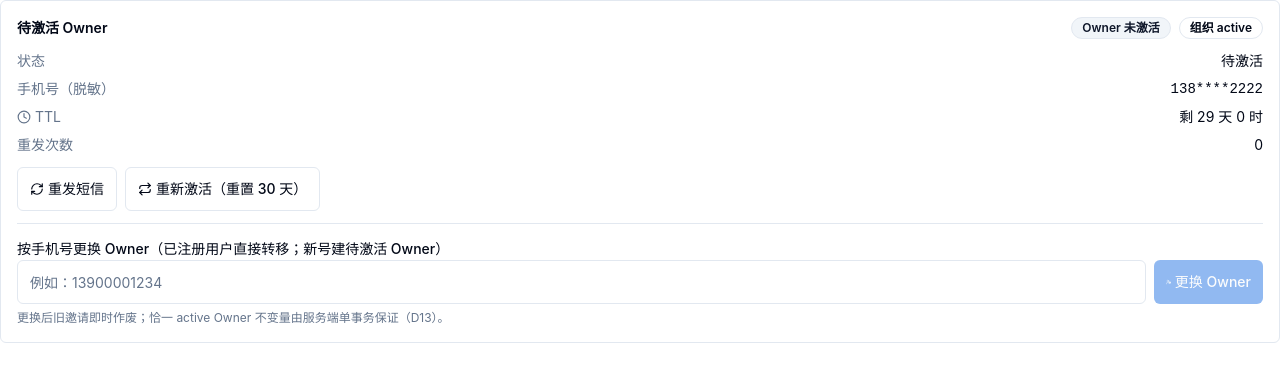
Test: PendingOwnerPanel — 重发 › POST /owner-activation/resend → 一次性轮换 token 展示 + 状态刷新
Click the button with test id "resend-btn" at (67, 189), box x1=17 y1=167 x2=117 y2=211
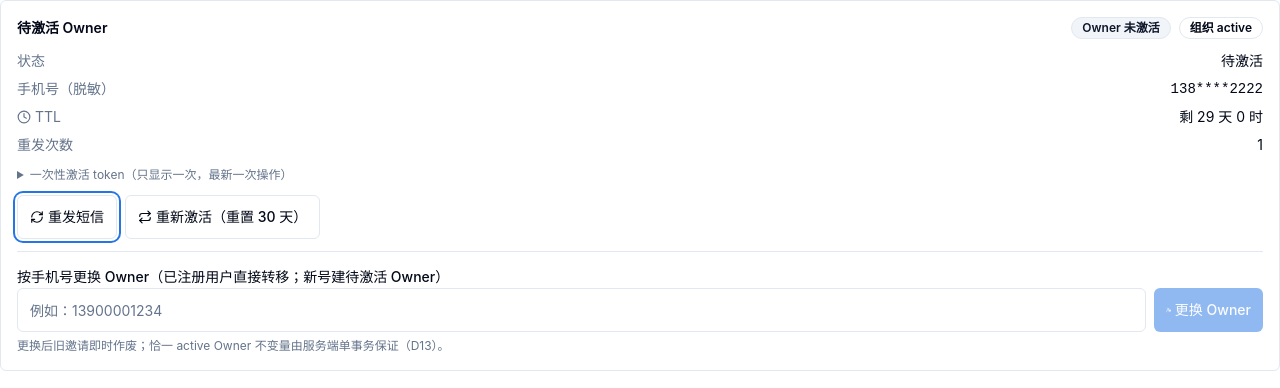
Now the element with test id "activation-token-once" is shown, box x1=30 y1=167 x2=292 y2=182
Now the text with test id "invite-resend-count" reads "1", box x1=1257 y1=136 x2=1263 y2=153
